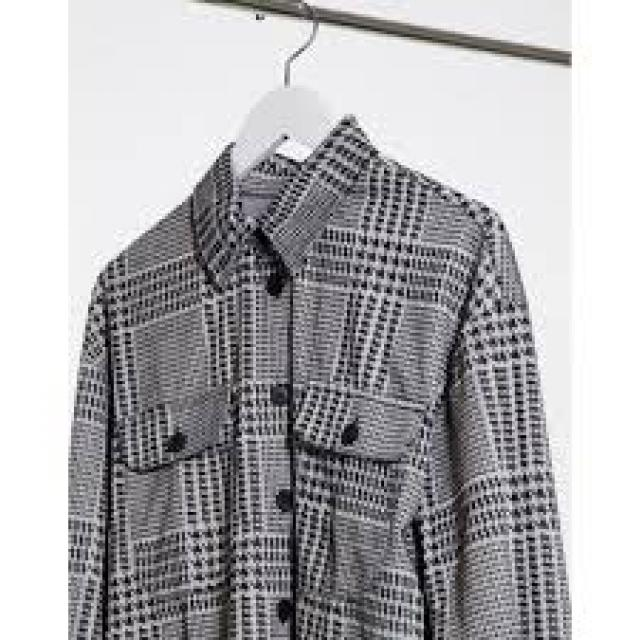plaid: (68, 138, 572, 640)
